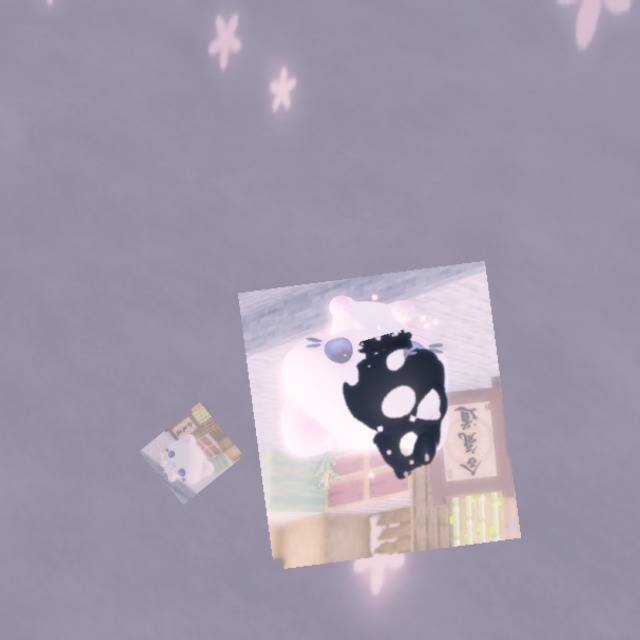urso_branco: (237, 260, 522, 571), (139, 402, 244, 505)
urso_preto: (320, 320, 478, 501)
